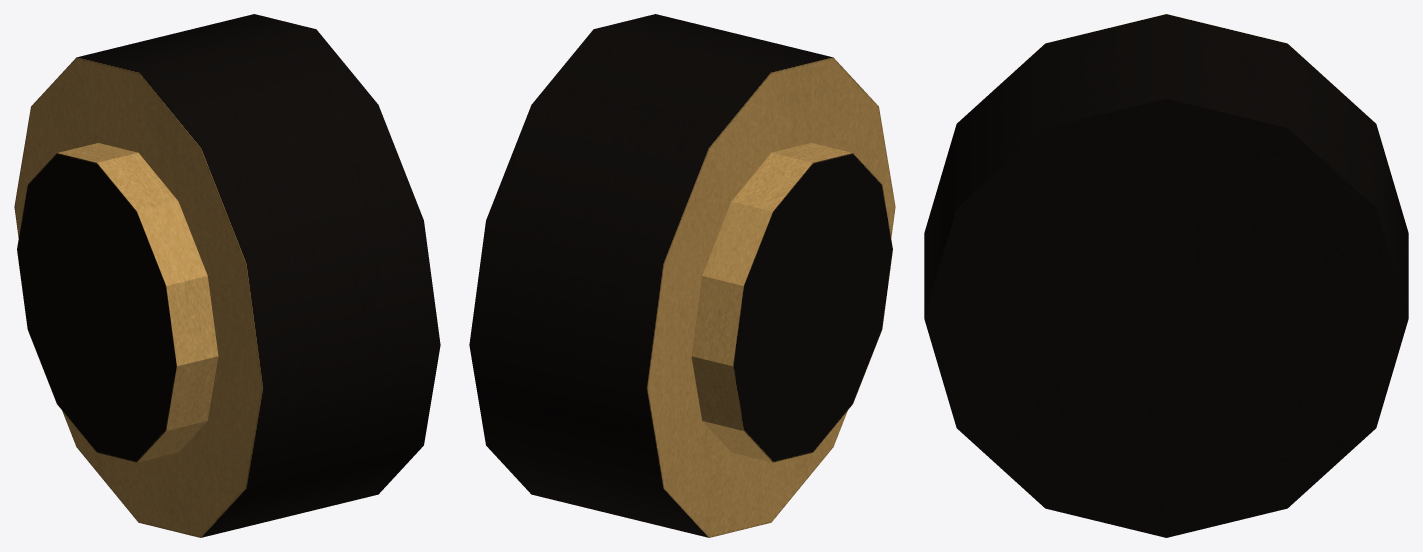
File: cardboard_car1_tire_rear_right.fbx
3 renders of one model, left to right at view 1: azimuth 30°, elevation 25°; view 2: azimuth 150°, elevation 25°; view 3: azimuth 270°, elevation 25°, orthographic. The views are drawn at different scales.
Parts seen in each view (by area): view 1: cardboard_car1_tire1; view 2: cardboard_car1_tire1; view 3: cardboard_car1_tire1.
Part boxes in pixels (bbox=[...]): cardboard_car1_tire1: bbox=[14, 14, 440, 537]; cardboard_car1_tire1: bbox=[469, 14, 895, 537]; cardboard_car1_tire1: bbox=[924, 14, 1408, 537].
Size of the model in its own units: 29.61 by 58 by 58.
